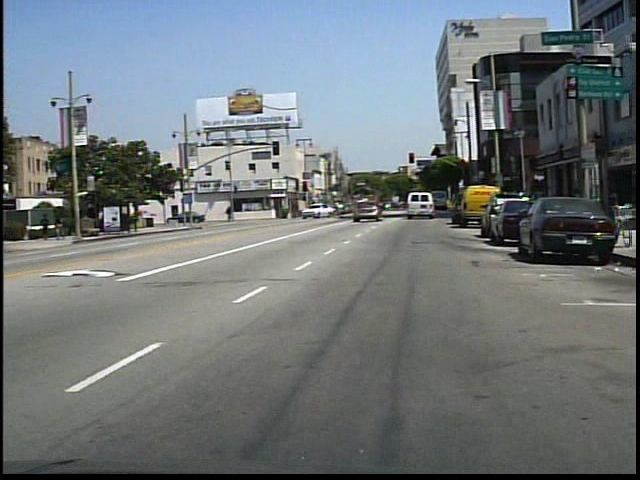person: (58, 214, 74, 245), (43, 211, 56, 242), (230, 205, 237, 223)
